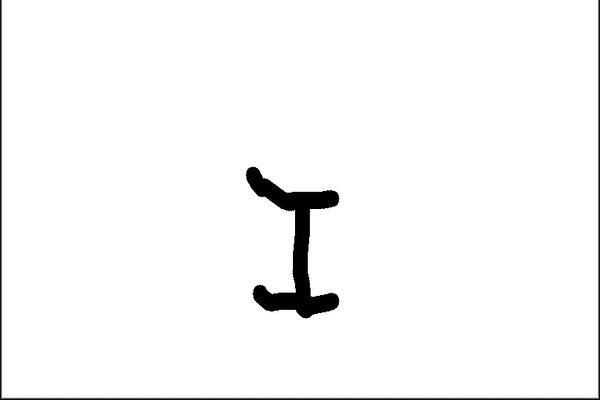i: (236, 158, 349, 322)
